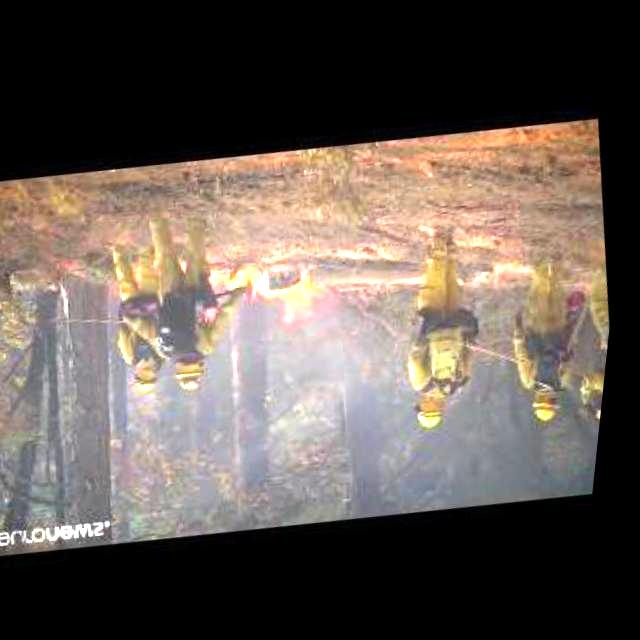fire: (218, 246, 354, 334), (140, 266, 148, 282)
